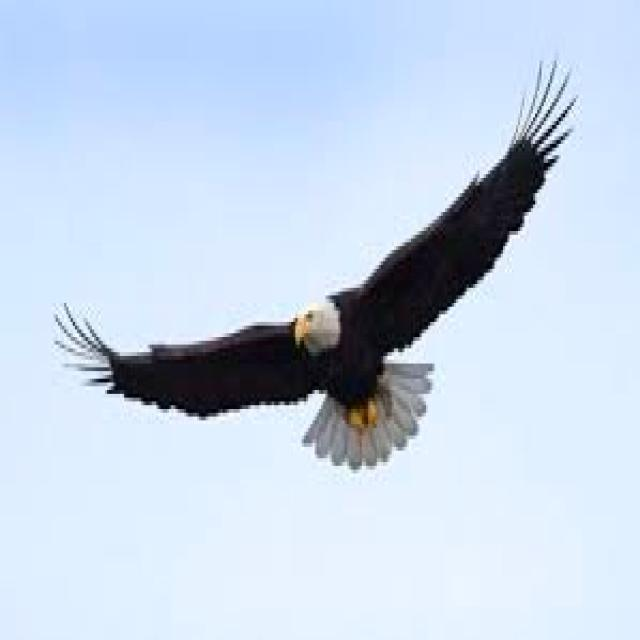eagle: (56, 68, 572, 462)
